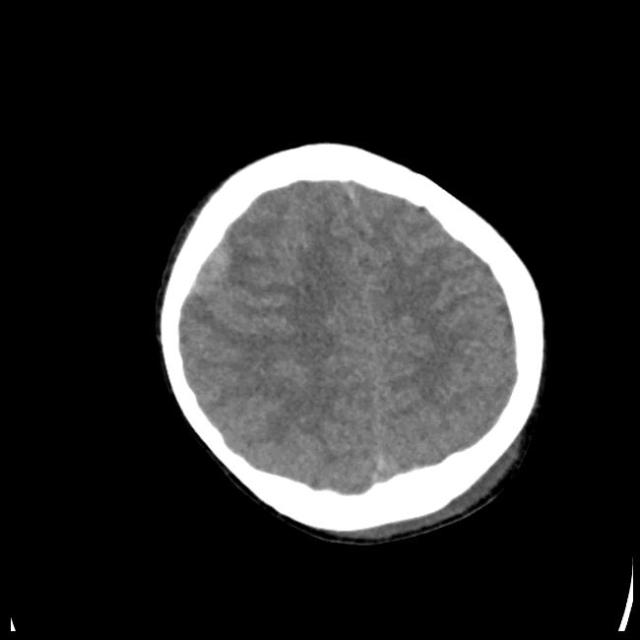lesion: (152, 137, 550, 546)
